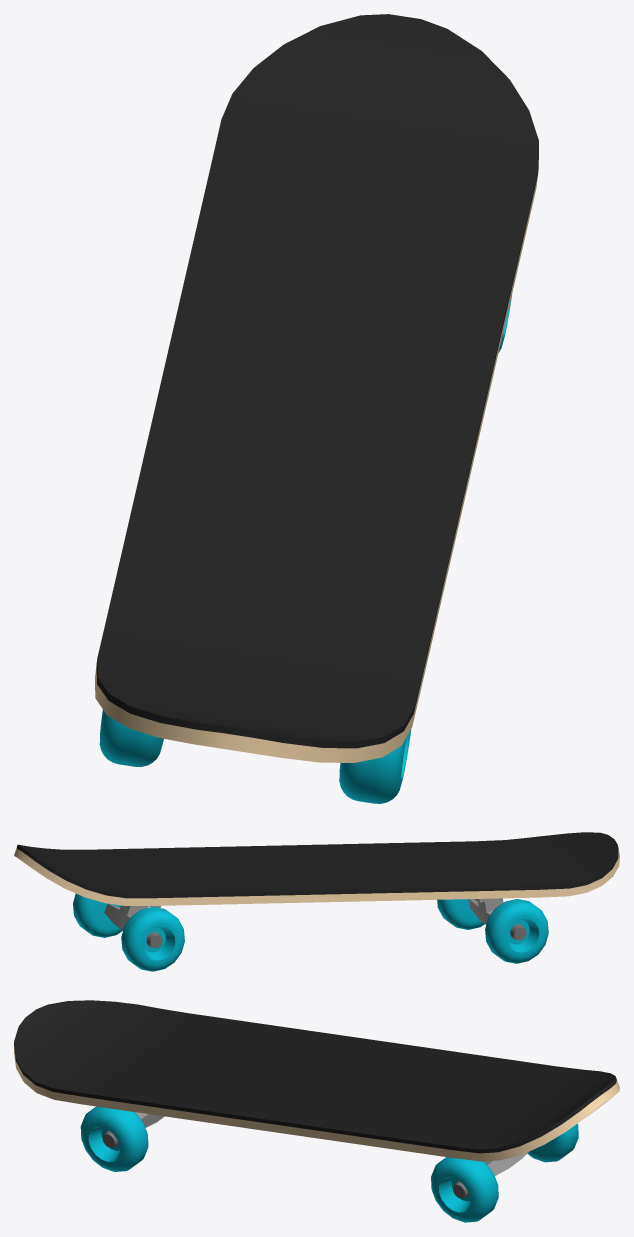
The model's file is skateboard.fbx.
3 renders of one model, top to bottom at view 1: azimuth 30°, elevation 25°; view 2: azimuth 150°, elevation 25°; view 3: azimuth 270°, elevation 25°, orthographic. The views are drawn at different scales.
Parts seen in each view (by area): view 1: Plane.231; view 2: Plane.231; view 3: Plane.231.
Part boxes in pixels (x1,y1,x2,y2): Plane.231: (95,14,538,803); Plane.231: (14,832,619,971); Plane.231: (14,1000,619,1222).
Bounding box in the file's own units: 219 × 95.58 × 262.
1 material, 1 textured.
